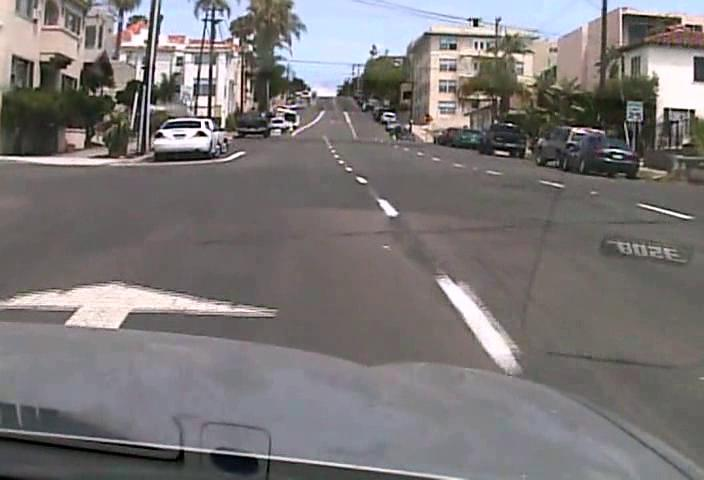speedLimit25: (623, 99, 644, 123)
